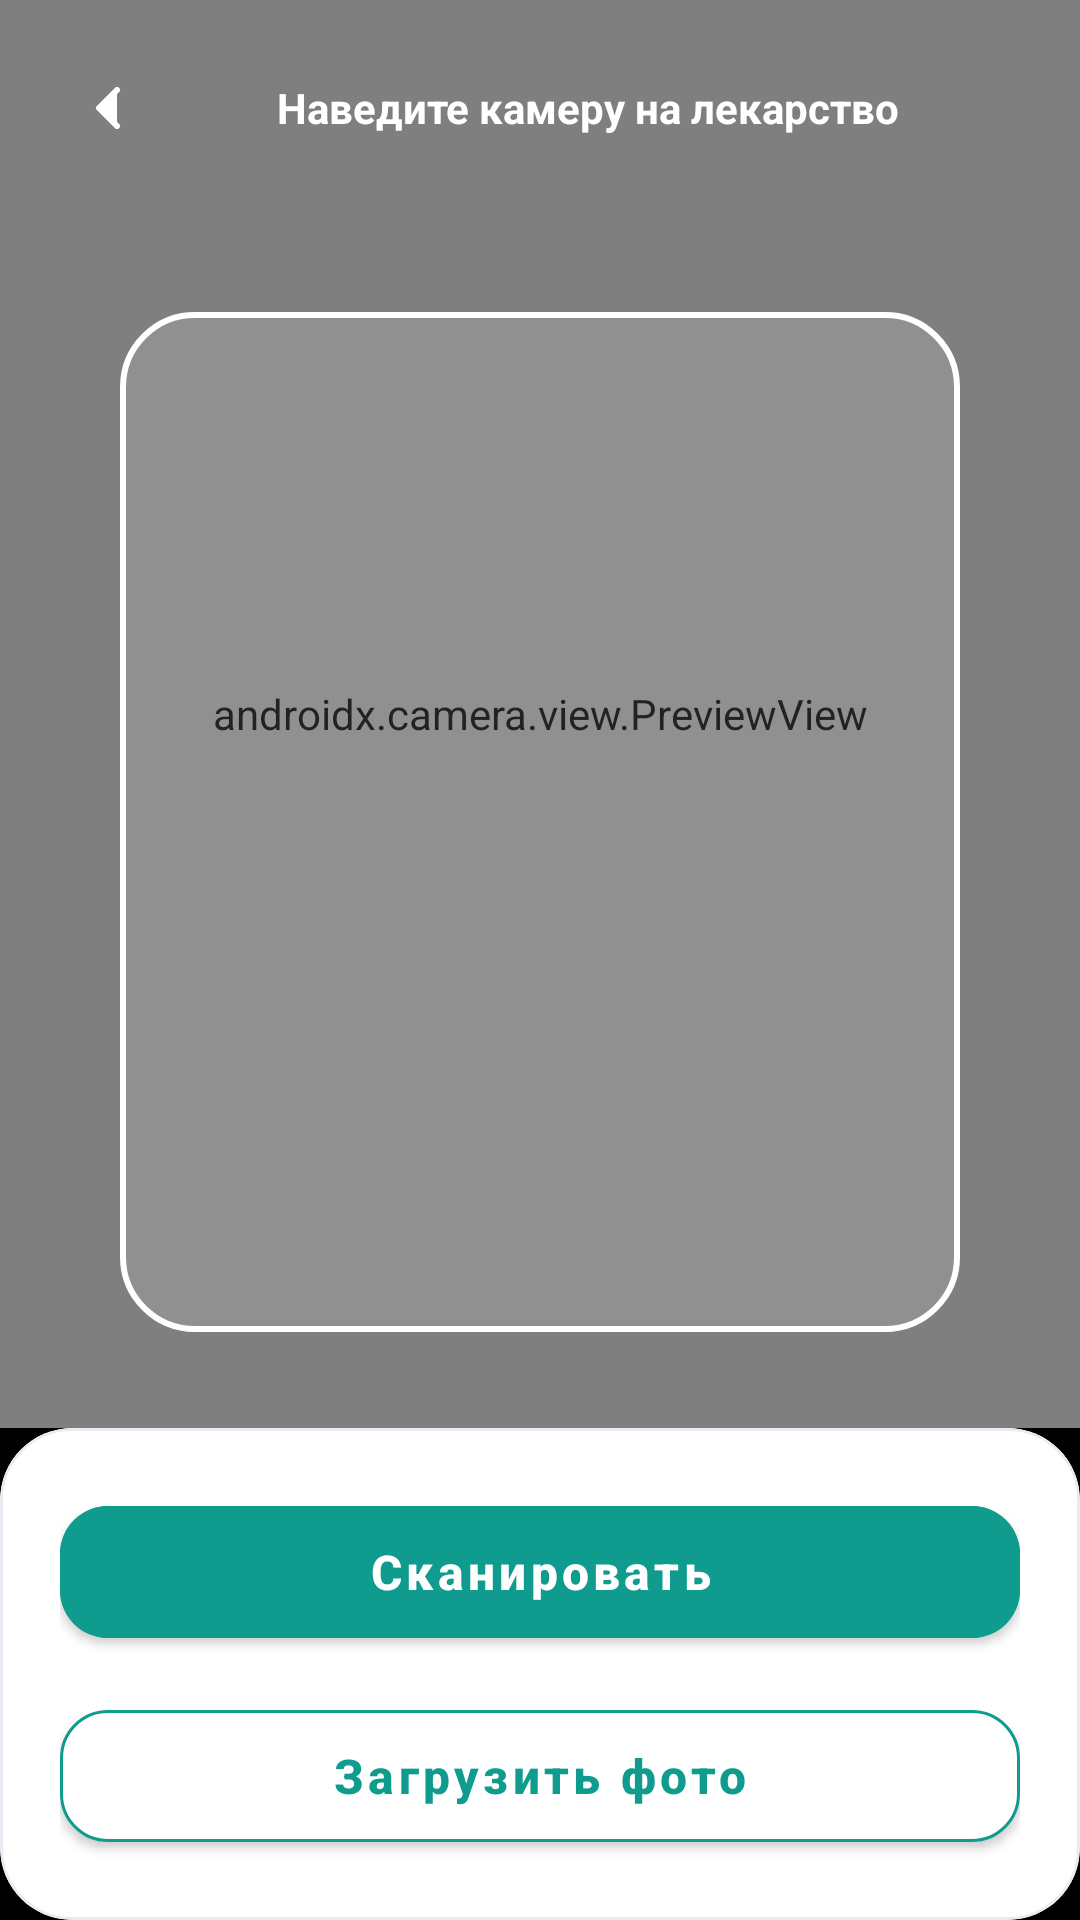

Screen size 1080×1920. Icon name, then its center in pixels as point (x, y):
back: point (108, 108)
